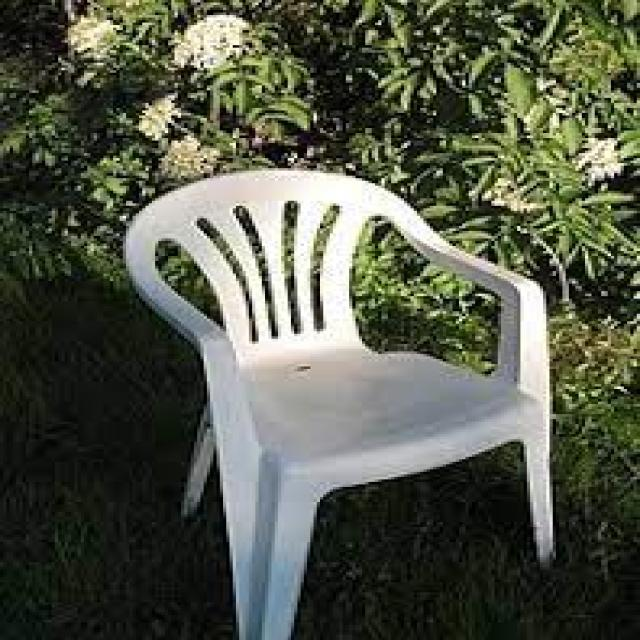chair: (59, 98, 640, 640)
